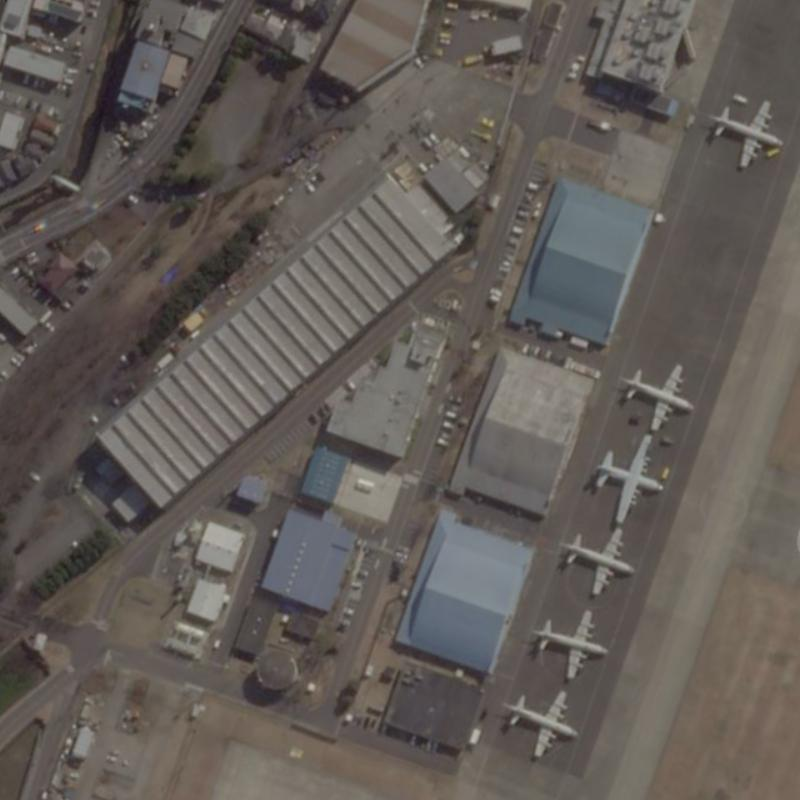A9: (584, 432, 669, 521), (500, 682, 589, 761), (529, 600, 608, 685), (556, 521, 641, 598), (703, 91, 784, 170), (617, 355, 699, 432)
